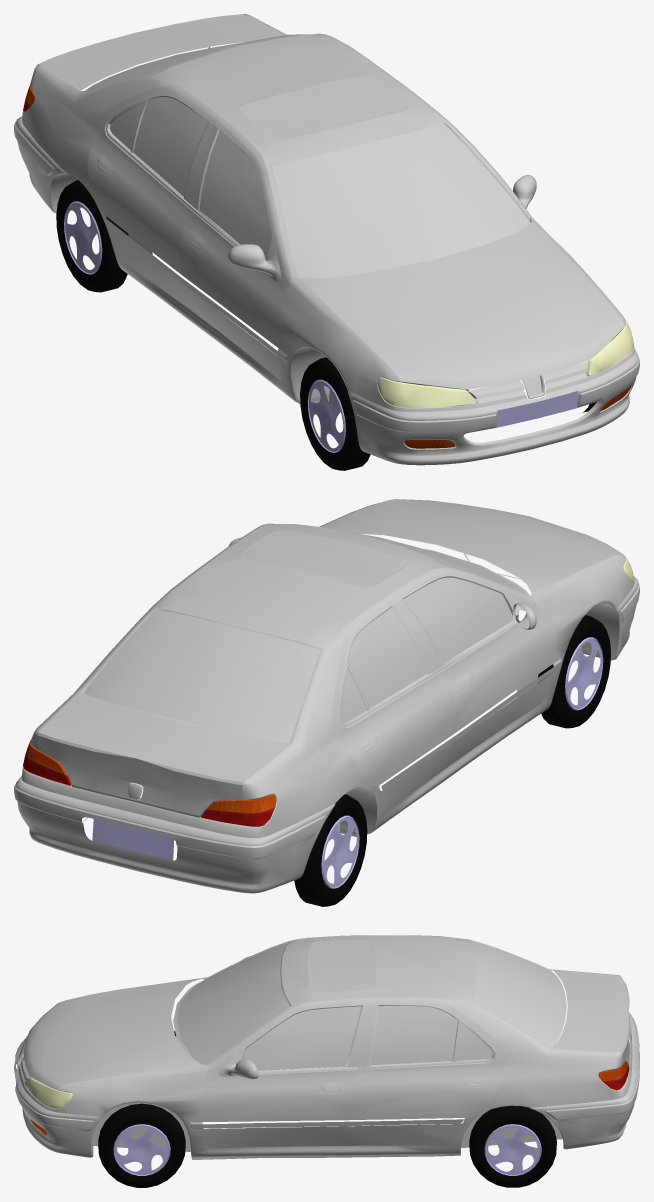
File: xiaojiaoche4.gltf
The picture shows the model from 3 angles, top to bottom: view 1: azimuth 30°, elevation 25°; view 2: azimuth 150°, elevation 25°; view 3: azimuth 270°, elevation 25°; orthographic projection. The views are drawn at different scales.
Visible parts, largest first — view 1: node_car3_bodydetachobj1_-235596, node_car3_bodydetachobj4_-235602, node_car3_bodydetachobj2_-235598, node_car3_bodydetachobj11_-235616, node_car3_bodydetachobj12_-235618, node_car3_bodydetachobj8_-235610, node_car3_bodydetachobj3_-235600, node_car3_bodydetachobj10_-235614; view 2: node_car3_bodydetachobj1_-235596, node_car3_bodydetachobj4_-235602, node_car3_bodydetachobj2_-235598, node_car3_bodydetachobj11_-235616, node_car3_bodydetachobj12_-235618, node_car3_bodydetachobj3_-235600, node_car3_bodydetachobj10_-235614, node_car3_bodydetachobj5_-235604, node_car3_bodydetachobj7_-235608; view 3: node_car3_bodydetachobj1_-235596, node_car3_bodydetachobj4_-235602, node_car3_bodydetachobj2_-235598, node_car3_bodydetachobj11_-235616, node_car3_bodydetachobj12_-235618, node_car3_bodydetachobj3_-235600, node_car3_bodydetachobj8_-235610, node_car3_bodydetachobj6_-235606.
Boxes of the visible parts, x1,y1,x2,y2 form: node_car3_bodydetachobj1_-235596: [16, 14, 638, 465]; node_car3_bodydetachobj4_-235602: [86, 34, 529, 278]; node_car3_bodydetachobj2_-235598: [14, 34, 639, 449]; node_car3_bodydetachobj11_-235616: [56, 180, 596, 470]; node_car3_bodydetachobj12_-235618: [64, 201, 345, 452]; node_car3_bodydetachobj8_-235610: [377, 318, 633, 407]; node_car3_bodydetachobj3_-235600: [50, 172, 334, 405]; node_car3_bodydetachobj10_-235614: [496, 390, 578, 427]; node_car3_bodydetachobj1_-235596: [15, 499, 638, 893]; node_car3_bodydetachobj4_-235602: [84, 531, 526, 742]; node_car3_bodydetachobj2_-235598: [14, 531, 639, 859]; node_car3_bodydetachobj11_-235616: [294, 615, 610, 906]; node_car3_bodydetachobj12_-235618: [82, 637, 603, 888]; node_car3_bodydetachobj3_-235600: [337, 603, 619, 836]; node_car3_bodydetachobj10_-235614: [92, 819, 174, 860]; node_car3_bodydetachobj5_-235604: [23, 754, 275, 826]; node_car3_bodydetachobj7_-235608: [206, 794, 276, 813]; node_car3_bodydetachobj1_-235596: [14, 935, 638, 1159]; node_car3_bodydetachobj4_-235602: [177, 941, 565, 1070]; node_car3_bodydetachobj2_-235598: [15, 940, 639, 1136]; node_car3_bodydetachobj11_-235616: [98, 1031, 556, 1187]; node_car3_bodydetachobj12_-235618: [113, 1124, 541, 1175]; node_car3_bodydetachobj3_-235600: [92, 1102, 563, 1155]; node_car3_bodydetachobj8_-235610: [24, 1035, 72, 1108]; node_car3_bodydetachobj6_-235606: [31, 1061, 628, 1135].
Size of the model in its own units: 1.98 by 1.46 by 4.61.
